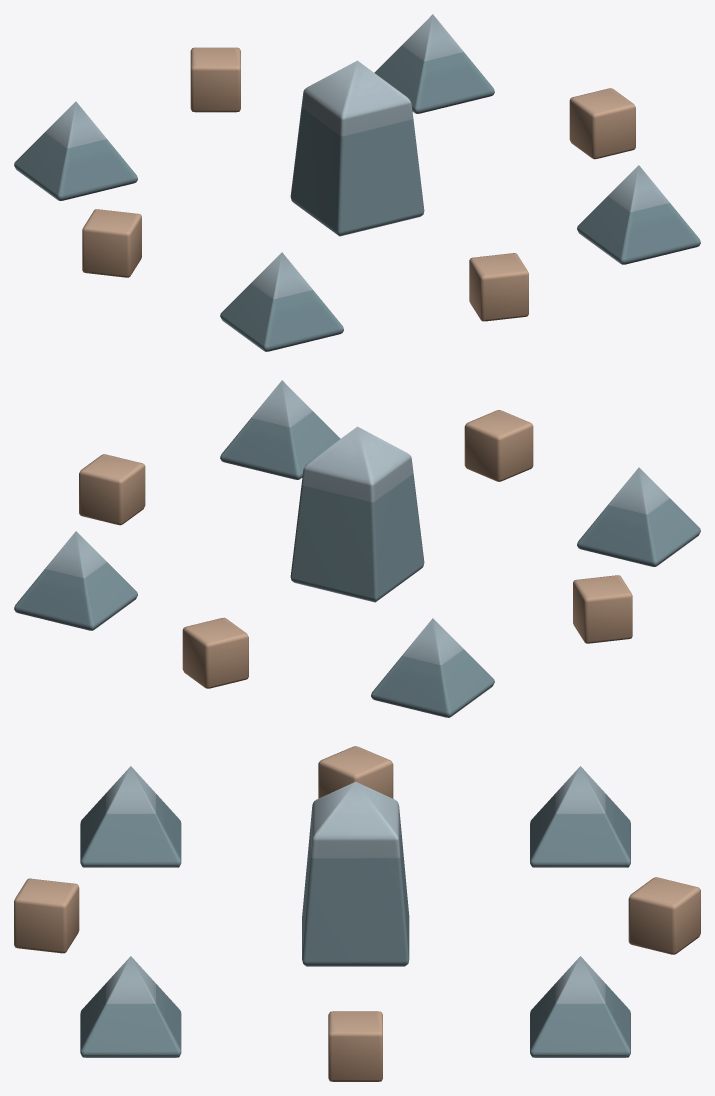
The model's file is Props.fbx.
3 renders of one model, top to bottom at view 1: azimuth 30°, elevation 25°; view 2: azimuth 150°, elevation 25°; view 3: azimuth 270°, elevation 25°, orthographic. The views are drawn at different scales.
Visible parts, largest first — view 1: 三角锥 (×4), 棱锥, Box1-6 (3), Box1-6 (2), Box1-6, Box1-6 (1); view 2: 三角锥 (×4), 棱锥, Box1-6, Box1-6 (3), Box1-6 (1), Box1-6 (2); view 3: 三角锥 (×4), 棱锥, Box1-6 (1), Box1-6, Box1-6 (3), Box1-6 (2).
Boxes of the visible parts, x1=… form: 三角锥 (×4): x1=14, y1=14, x2=700, y2=351; 棱锥: x1=290, y1=60, x2=424, y2=236; Box1-6 (3): x1=569, y1=88, x2=635, y2=159; Box1-6 (2): x1=82, y1=209, x2=141, y2=277; Box1-6: x1=469, y1=253, x2=528, y2=321; Box1-6 (1): x1=190, y1=47, x2=240, y2=112; 三角锥 (×4): x1=14, y1=380, x2=700, y2=717; 棱锥: x1=290, y1=426, x2=424, y2=602; Box1-6: x1=464, y1=410, x2=533, y2=481; Box1-6 (3): x1=79, y1=454, x2=145, y2=525; Box1-6 (1): x1=182, y1=617, x2=248, y2=688; Box1-6 (2): x1=573, y1=575, x2=632, y2=643; 三角锥 (×4): x1=80, y1=766, x2=630, y2=1057; 棱锥: x1=302, y1=781, x2=409, y2=966; Box1-6 (1): x1=628, y1=877, x2=700, y2=954; Box1-6: x1=14, y1=878, x2=79, y2=953; Box1-6 (3): x1=328, y1=1011, x2=382, y2=1081; Box1-6 (2): x1=318, y1=746, x2=393, y2=798.
Size of the model in its own units: 24.31 by 6.42 by 24.45.
